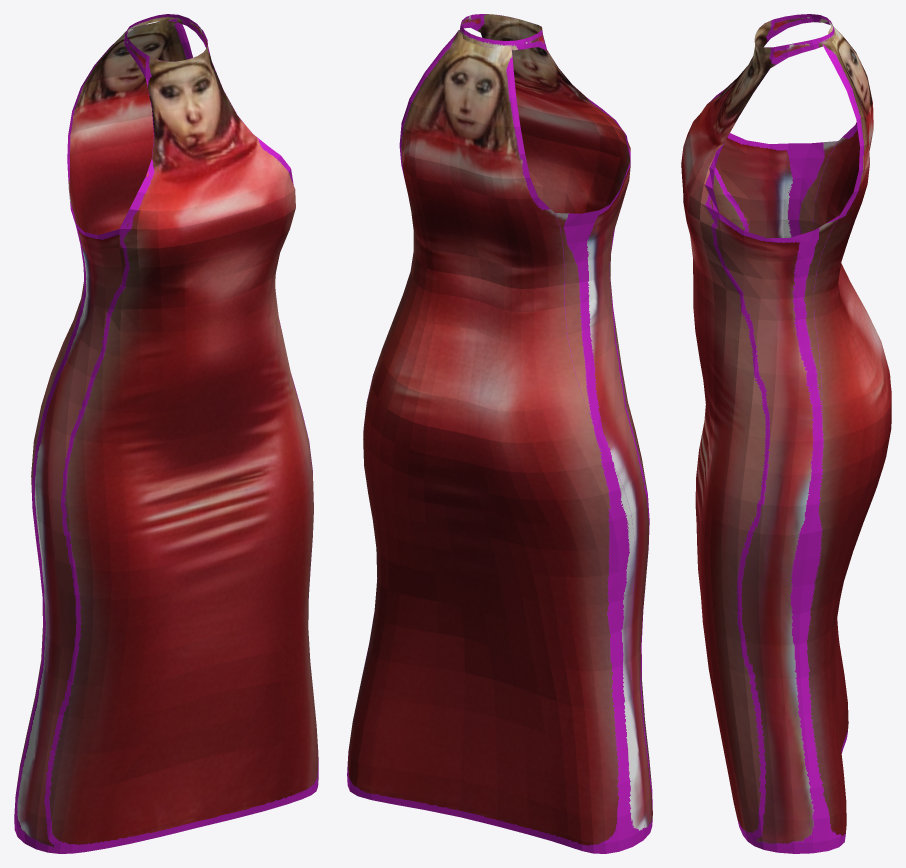
3 views of the same model, side by side, from view 1: azimuth 30°, elevation 25°; view 2: azimuth 150°, elevation 25°; view 3: azimuth 270°, elevation 25° (orthographic). The views are drawn at different scales.
Size of the model in its own units: 0.3998 by 1.04 by 0.2617.
Materials: 1 (1 with a texture image).
